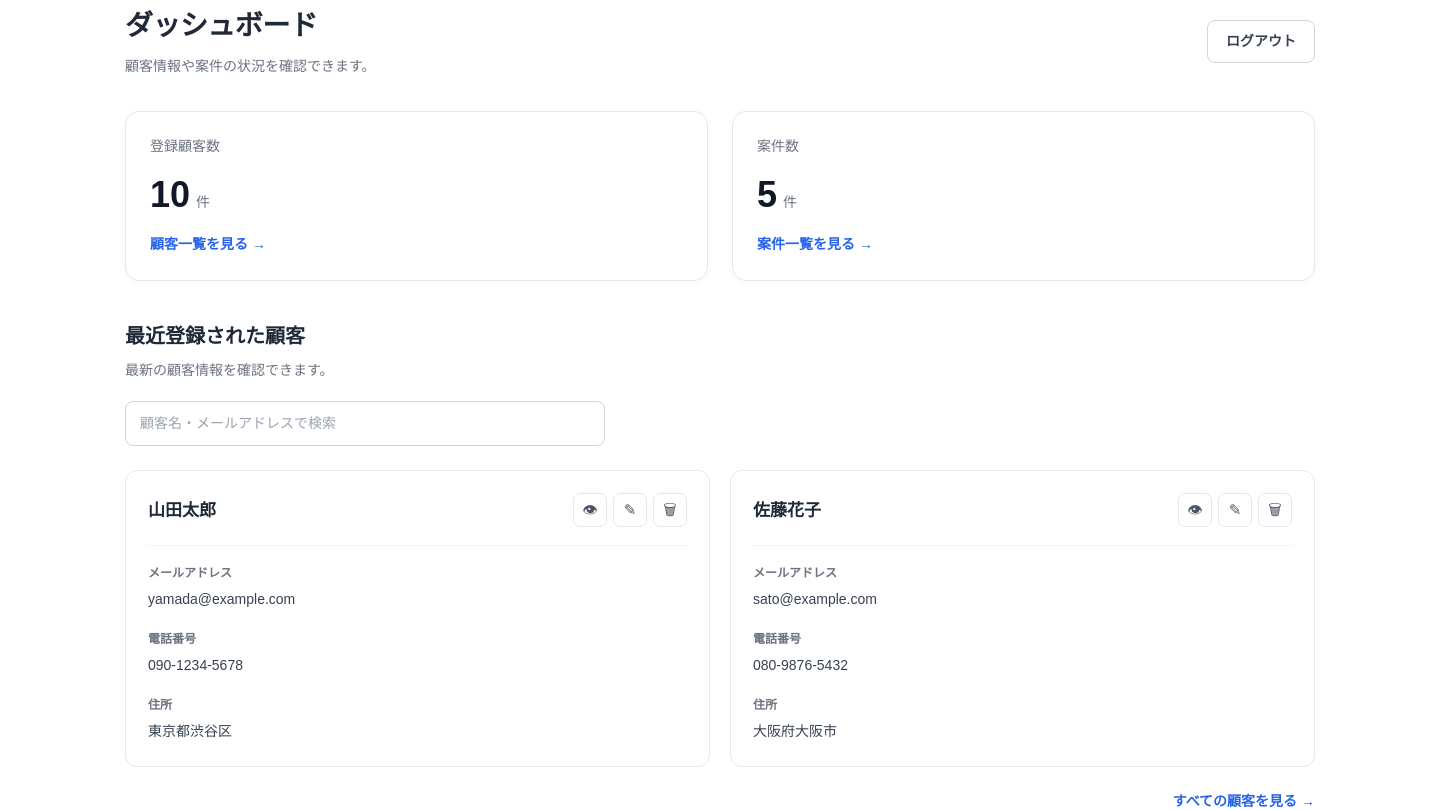
it: DashboardTemplate › 顧客検索 › 顧客名で検索できる
The image size is (1440, 810).
Type "山田" into the search field named "顧客を検索".
click(365, 424); type("山田")  # box x1=125 y1=401 x2=605 y2=446
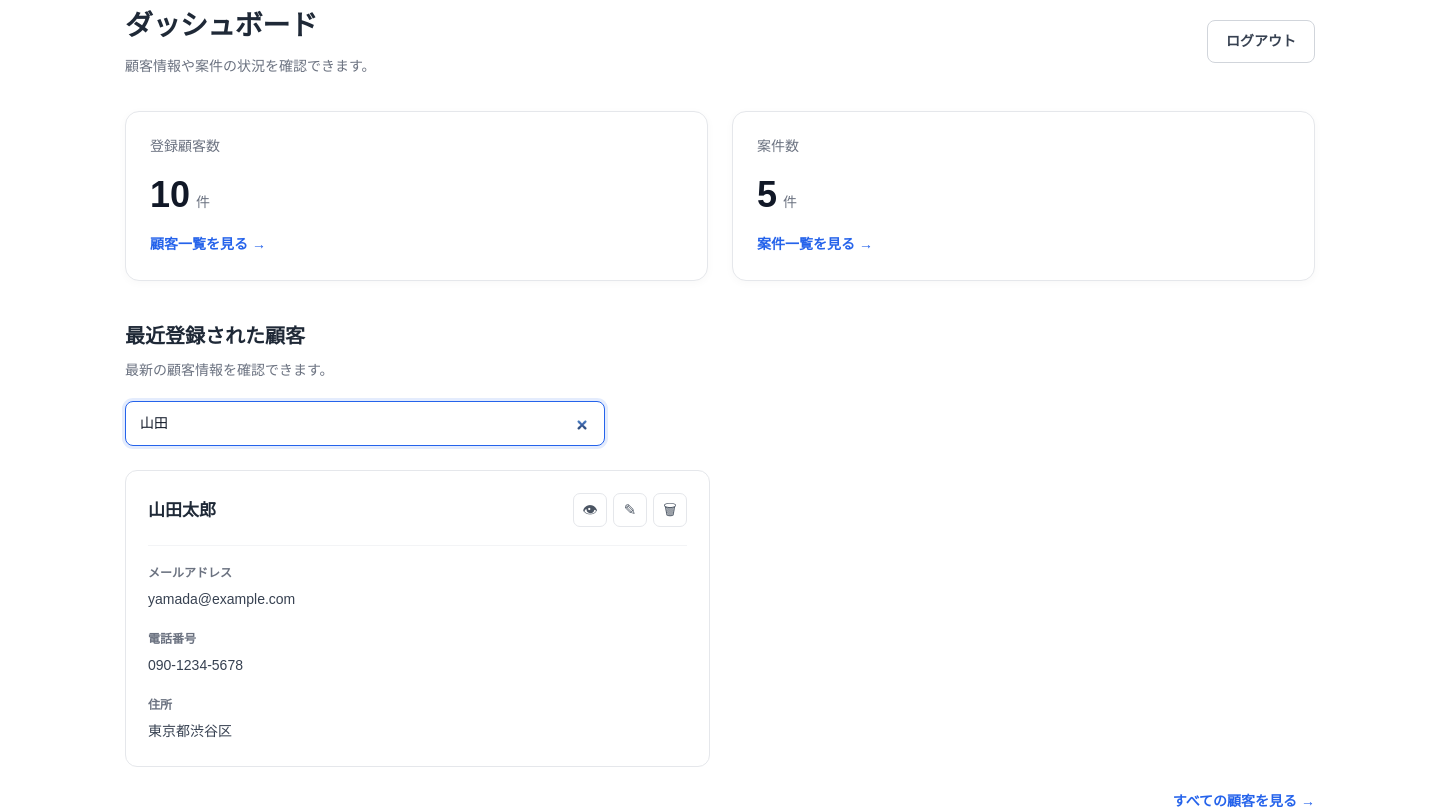
Expected: the heading "山田太郎" is shown, x1=148 y1=498 x2=216 y2=523
Expected: the heading "佐藤花子" is gone
